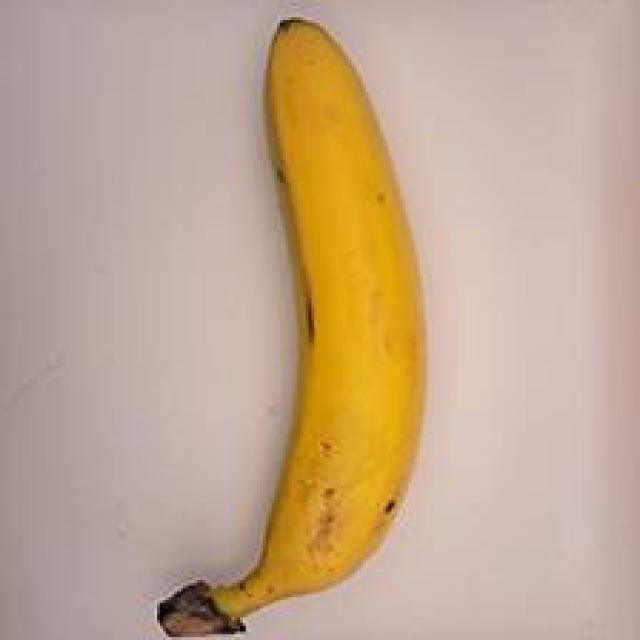Ripe: (143, 16, 436, 640)
